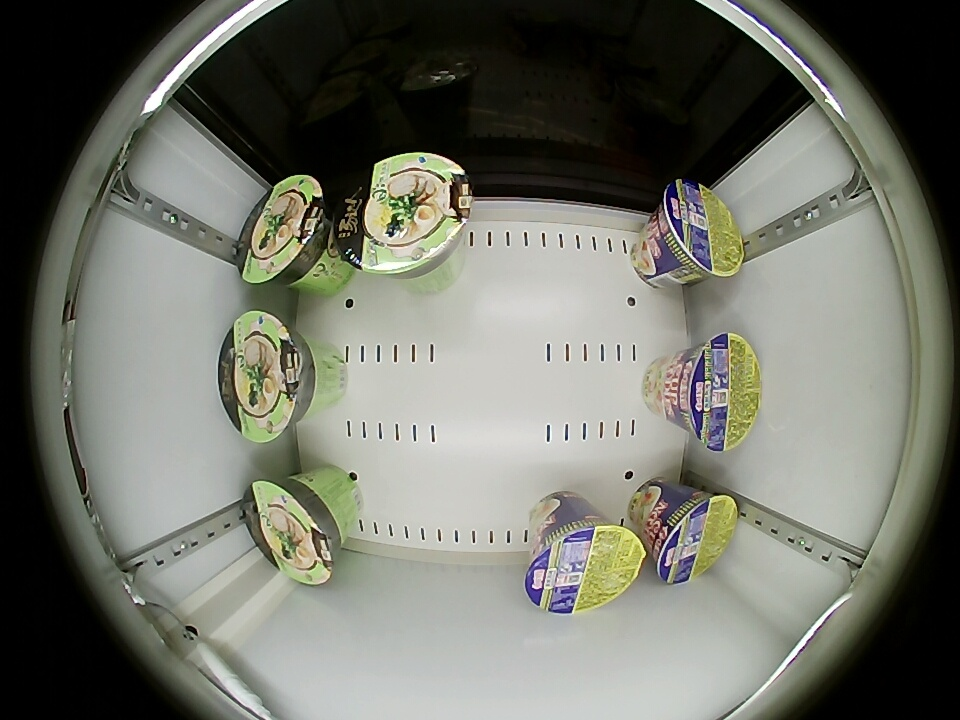heweidao: (524, 511, 645, 614), (676, 332, 763, 453), (655, 178, 744, 281), (652, 489, 738, 584)
tangdaren: (333, 153, 474, 278), (216, 310, 320, 443), (243, 474, 344, 586), (235, 174, 329, 287)
